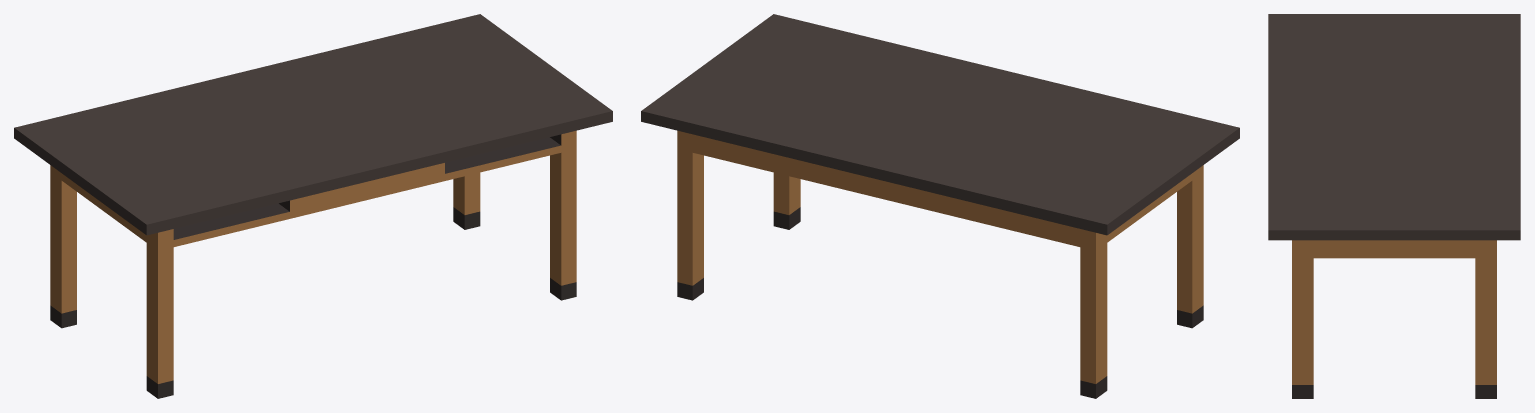
File: science_table.fbx
The picture shows the model from 3 angles, left to right: view 1: azimuth 30°, elevation 25°; view 2: azimuth 150°, elevation 25°; view 3: azimuth 270°, elevation 25°; orthographic projection. The views are drawn at different scales.
Visible parts, largest first — view 1: science_table; view 2: science_table; view 3: science_table.
Boxes of the visible parts, bbox=[...] form: science_table: bbox=[14, 14, 612, 398]; science_table: bbox=[641, 14, 1239, 398]; science_table: bbox=[1268, 14, 1520, 398].
Bounding box in the file's own units: 8.93 × 3.46 × 4.4.
